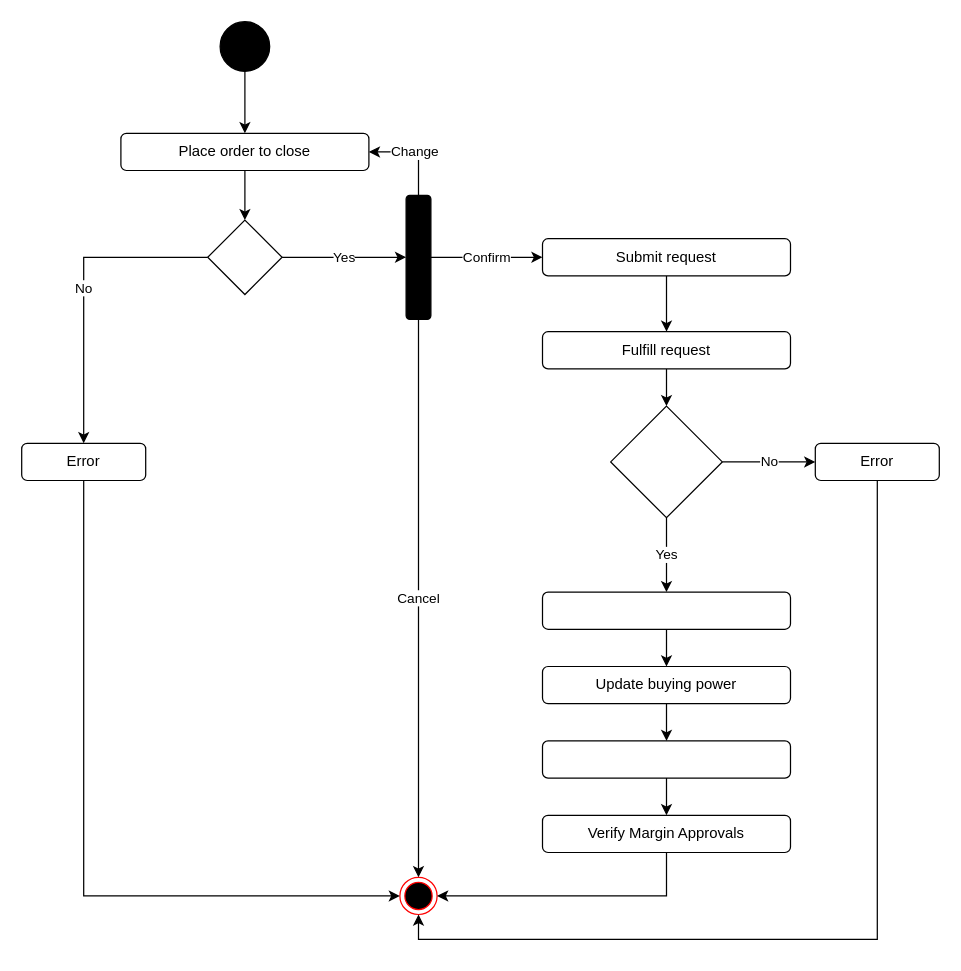
Some shapes in this 961 by 971 pixel diagram are drawn without their labels. Here are the shapes that lost their labels. From the top down, the centre of each, then its label:
At (244,256): "Valid?".
At (665,461): "Fulfillment Successful?".
At (665,610): "Update cash balance".
At (665,759): "Update portfolio".
